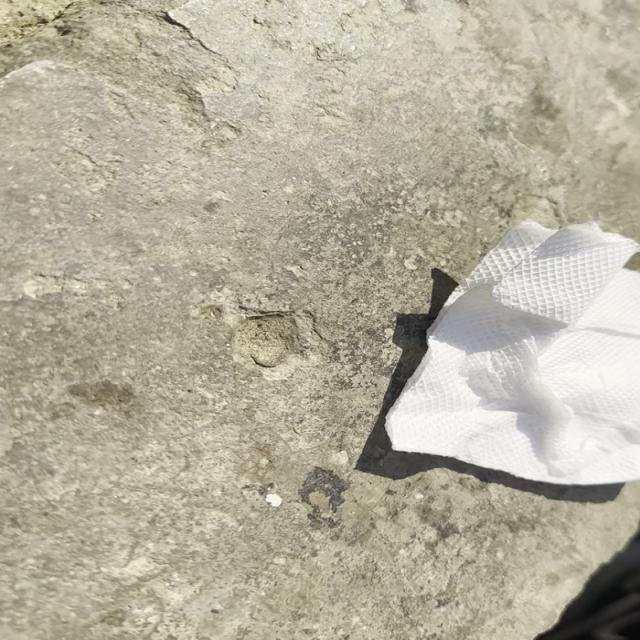tissue: (384, 214, 640, 480)
